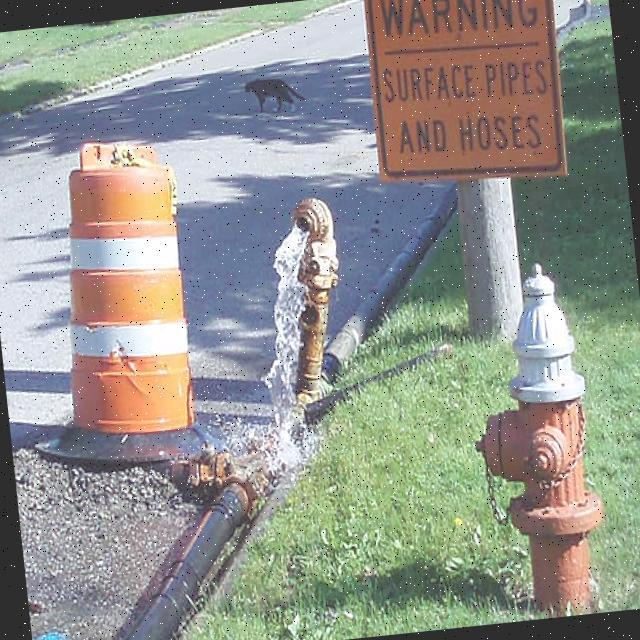fire_hydrant: (452, 256, 614, 624)
